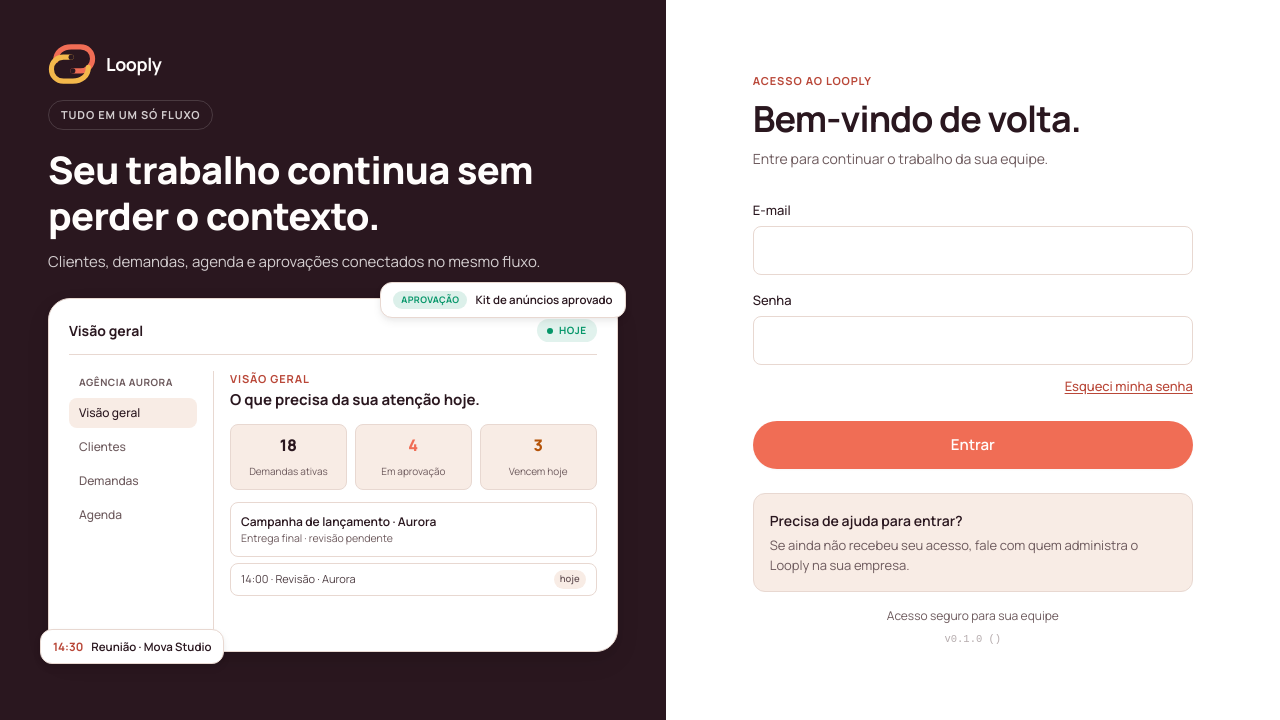
Test case: Login › shows the server message on invalid credentials
This screenshot has width=1280, height=720.
Type "admin@looply.app" into the field labelled "E-mail" at (973, 250), box [753,226,1193,275]
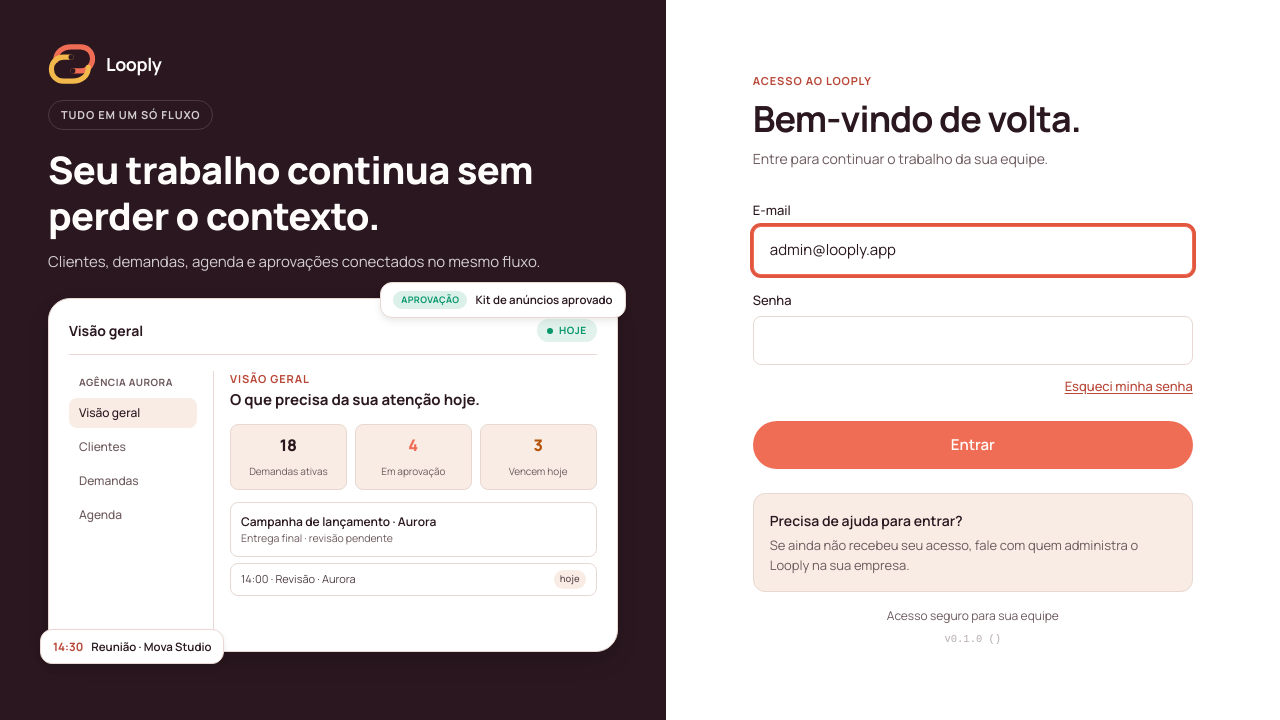
Type "wrong" into the password field labelled "Senha" at (973, 340), box [753,316,1193,365]
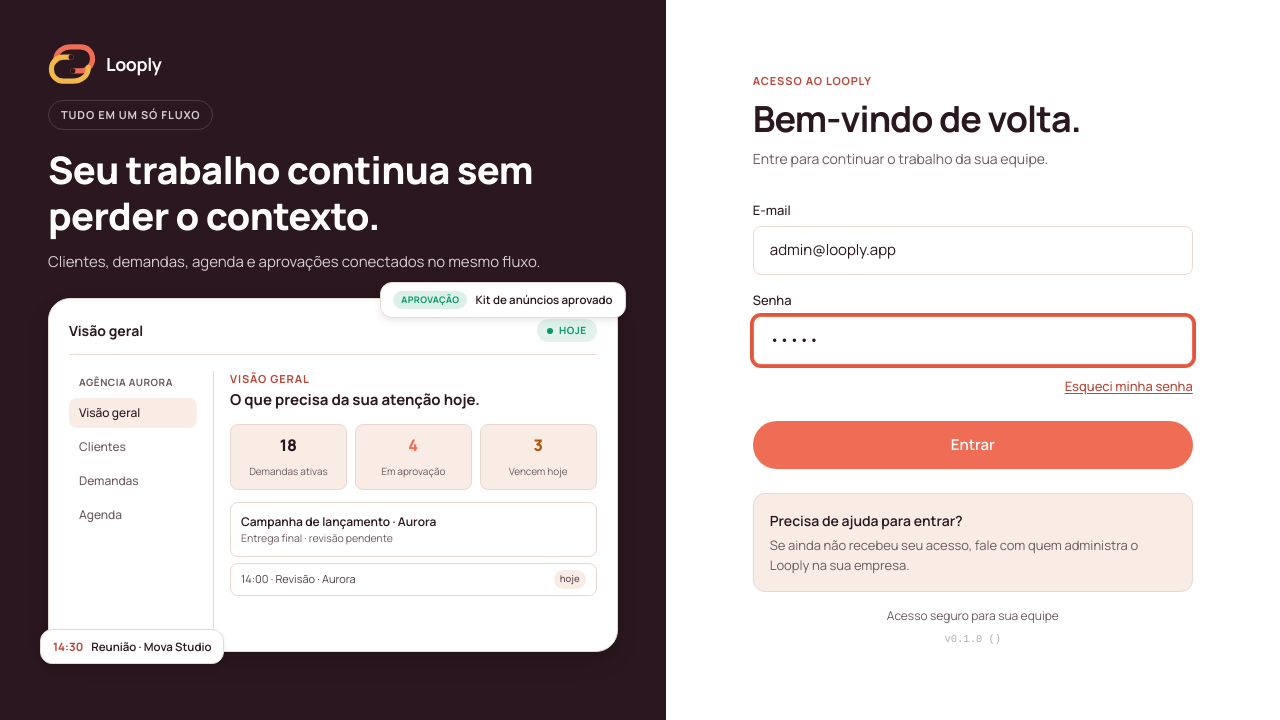
Click the button "Entrar" at (973, 445), box [753,421,1193,469]
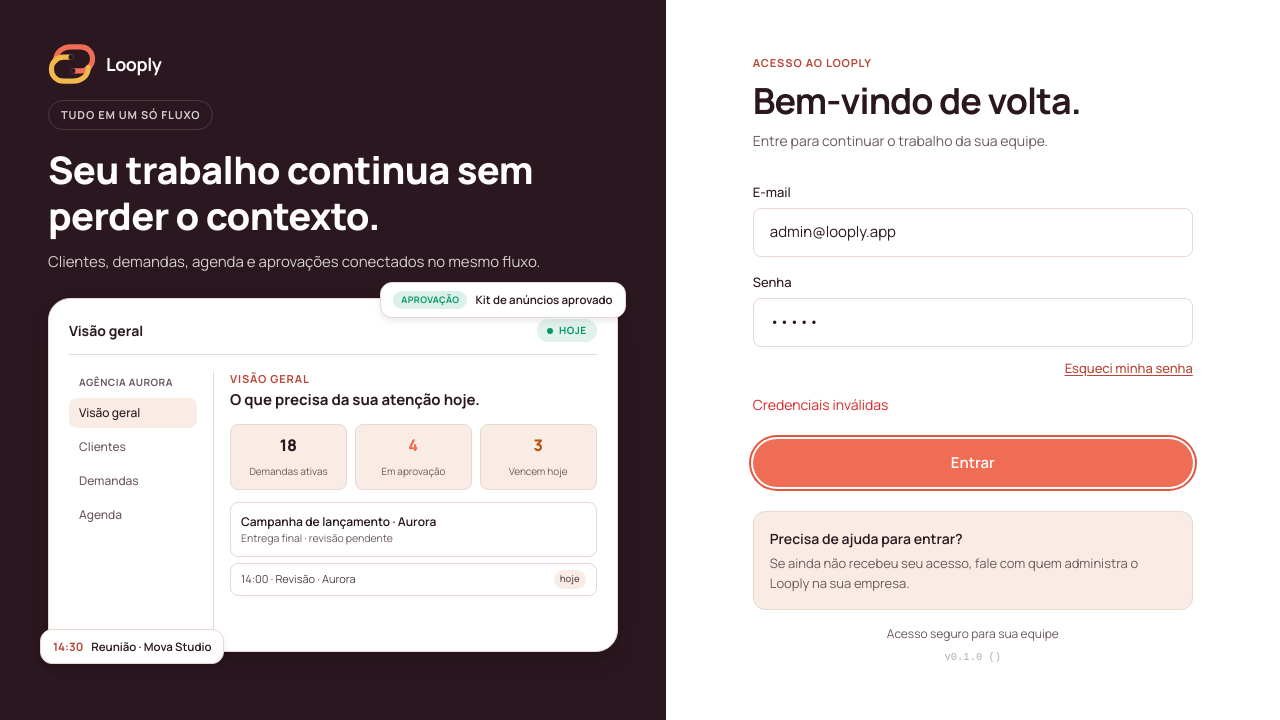
Result: the message reads "Credenciais inválidas" at [753,395,888,414]
